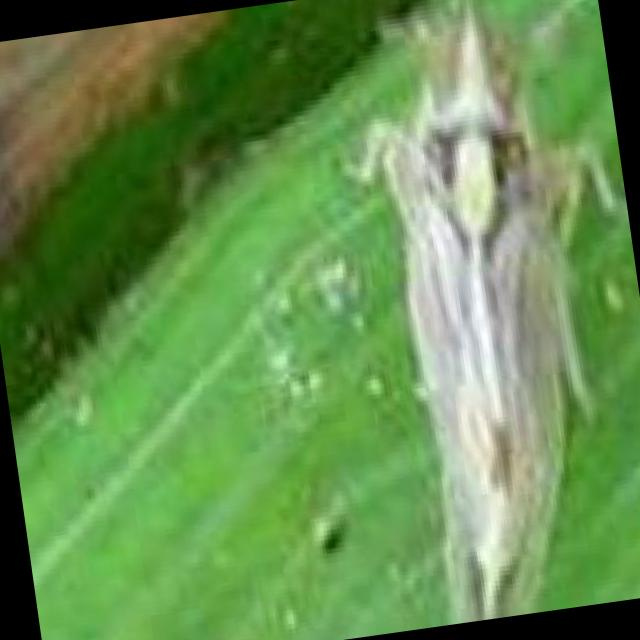brown-planthopper: (335, 0, 620, 629)
